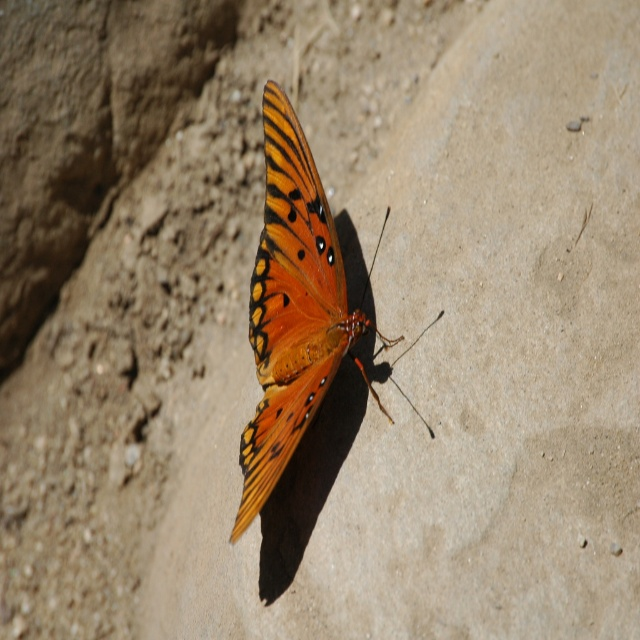Butterfly: (242, 63, 400, 570)
